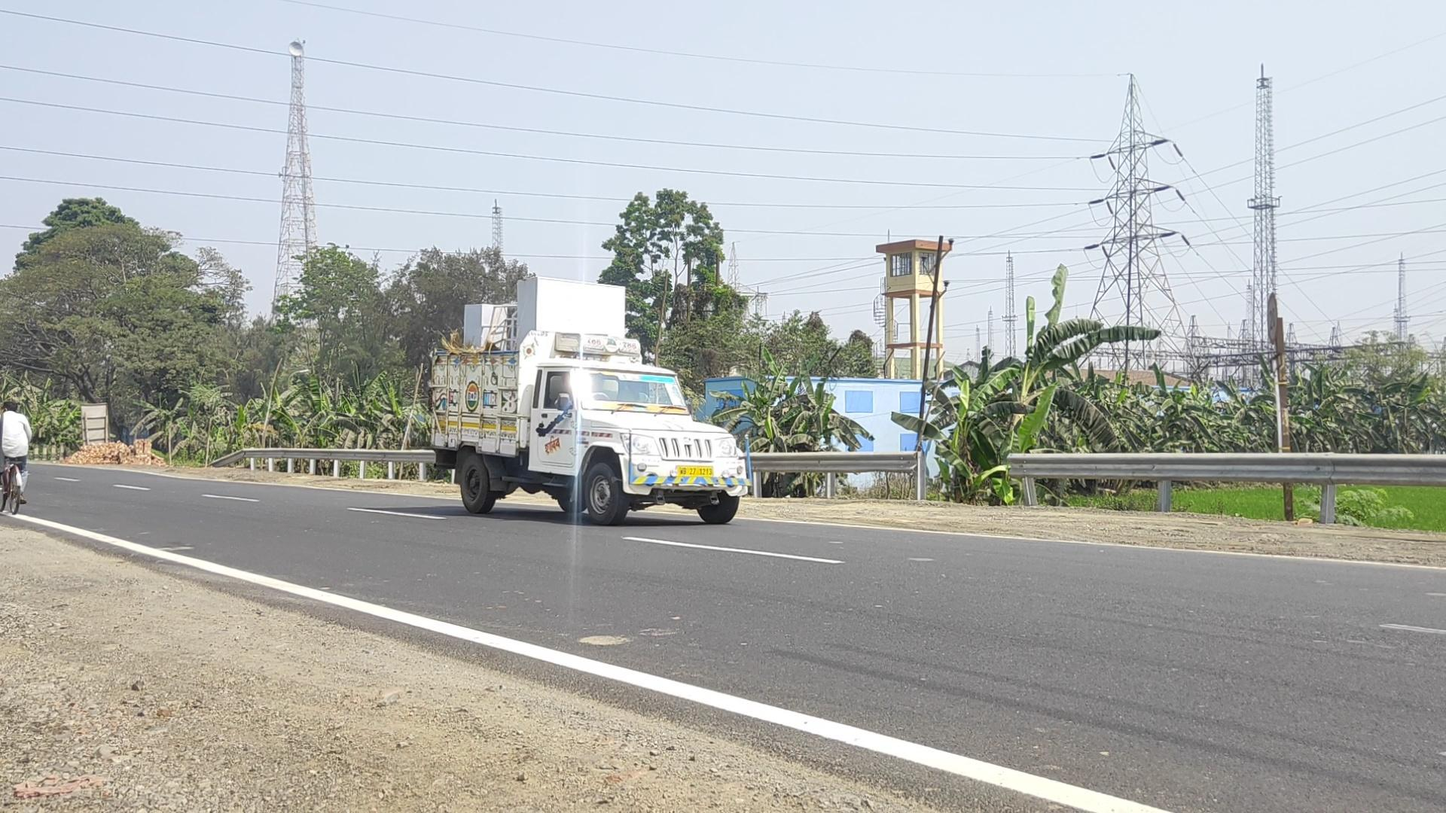bike: (1, 400, 31, 516)
van: (429, 277, 752, 527)
